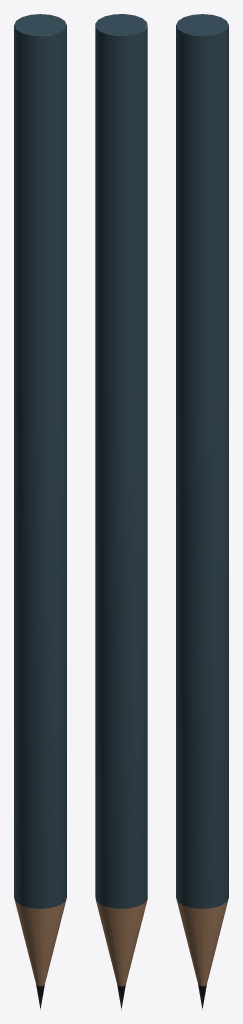
Rendered from olowek1.fbx.
3 renders of one model, left to right at view 1: azimuth 90°, elevation 25°; view 2: azimuth 150°, elevation 25°; view 3: azimuth 270°, elevation 25°, orthographic.
Visible parts, largest first — view 1: OLOWEK1; view 2: OLOWEK1; view 3: OLOWEK1.
Part boxes in pixels (x1,y1,x2,y2): OLOWEK1: [14, 14, 66, 1009]; OLOWEK1: [95, 14, 147, 1009]; OLOWEK1: [176, 14, 228, 1009].
Size of the model in its own units: 9.98 by 9.98 by 205.
